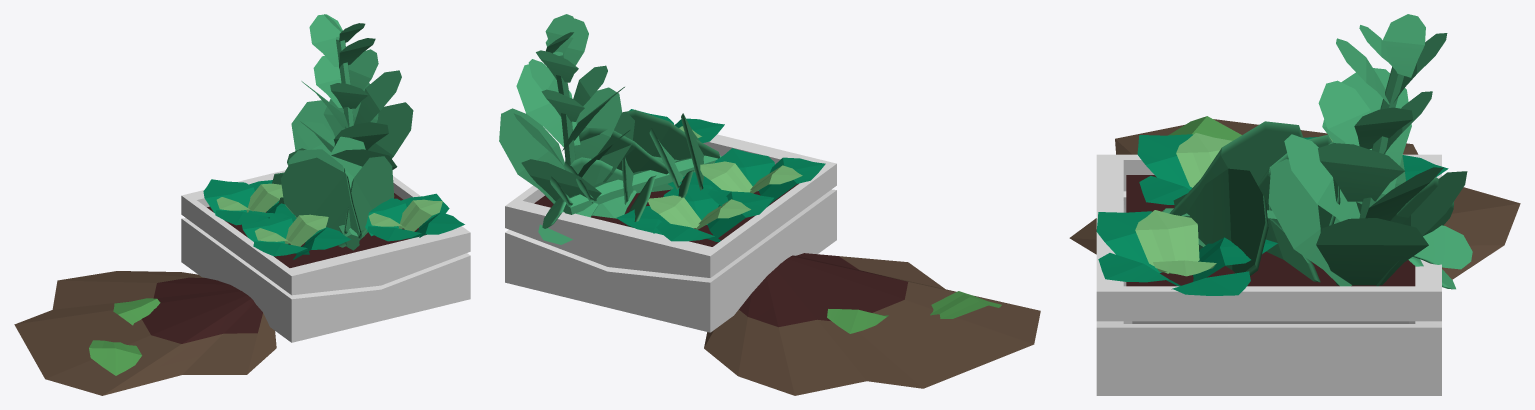
File: Destroyed_plant_farm_010.fbx
3 renders of one model, left to right at view 1: azimuth 30°, elevation 25°; view 2: azimuth 150°, elevation 25°; view 3: azimuth 270°, elevation 25°, orthographic. The views are drawn at different scales.
Visible parts, largest first — view 1: polySurface2855, polySurface2080, polySurface2418, polySurface2079, polySurface2417, polySurface2423, polySurface2422, polySurface2408, polySurface2081, polySurface2863, polySurface2862; view 2: polySurface2855, polySurface2080, polySurface2418, polySurface2079, polySurface2417, polySurface2408, polySurface2423, polySurface2863, polySurface2862, polySurface2081, polySurface2422; view 3: polySurface2418, polySurface2080, polySurface2079, polySurface2417, polySurface2422, polySurface2855, polySurface2423, polySurface2081, polySurface2863, polySurface2082, polySurface2408.
Boxes of the visible parts, box(x1,y1,x2,y2) form: polySurface2855: box(14, 271, 276, 395); polySurface2080: box(181, 218, 470, 342); polySurface2418: box(291, 14, 413, 169); polySurface2079: box(181, 170, 470, 295); polySurface2417: box(272, 121, 394, 250); polySurface2423: box(242, 210, 350, 259); polySurface2422: box(365, 193, 464, 241); polySurface2408: box(203, 179, 295, 225); polySurface2081: box(207, 193, 426, 267); polySurface2863: box(89, 340, 141, 375); polySurface2862: box(113, 298, 160, 325); polySurface2855: box(704, 253, 1040, 395); polySurface2080: box(505, 189, 836, 332); polySurface2418: box(499, 14, 634, 204); polySurface2079: box(505, 124, 836, 277); polySurface2417: box(538, 109, 721, 244); polySurface2408: box(616, 182, 773, 242); polySurface2423: box(668, 148, 825, 207); polySurface2863: box(930, 291, 1001, 318); polySurface2862: box(827, 309, 888, 333); polySurface2081: box(534, 183, 798, 246); polySurface2422: box(629, 109, 724, 142); polySurface2418: box(1268, 14, 1467, 286); polySurface2080: box(1096, 191, 1441, 395); polySurface2079: box(1096, 154, 1441, 321); polySurface2417: box(1162, 121, 1472, 289); polySurface2422: box(1096, 210, 1277, 295); polySurface2855: box(1069, 119, 1520, 279); polySurface2423: box(1137, 133, 1231, 204); polySurface2081: box(1126, 175, 1415, 286); polySurface2863: box(1168, 116, 1241, 140); polySurface2082: box(1132, 321, 1408, 323); polySurface2408: box(1303, 136, 1448, 180).
Bounding box in the file's own units: 3.6 × 1.95 × 2.18.
